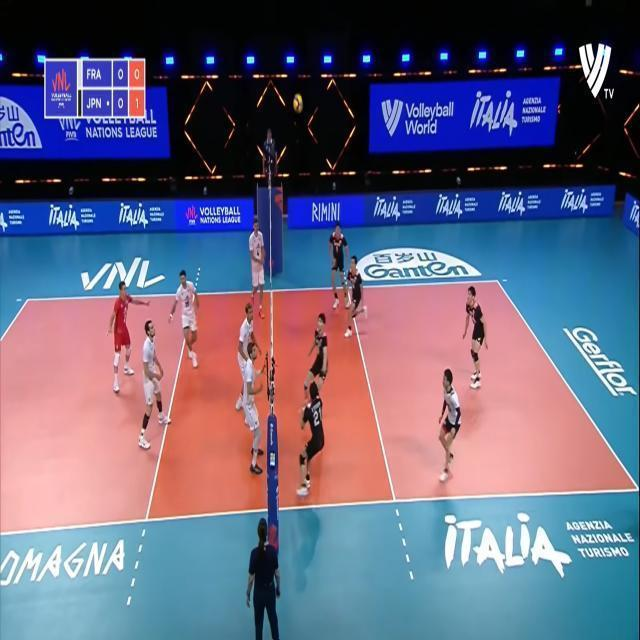volleyball: (293, 94, 303, 112)
